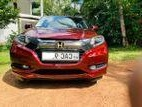car: (7, 9, 112, 89)
